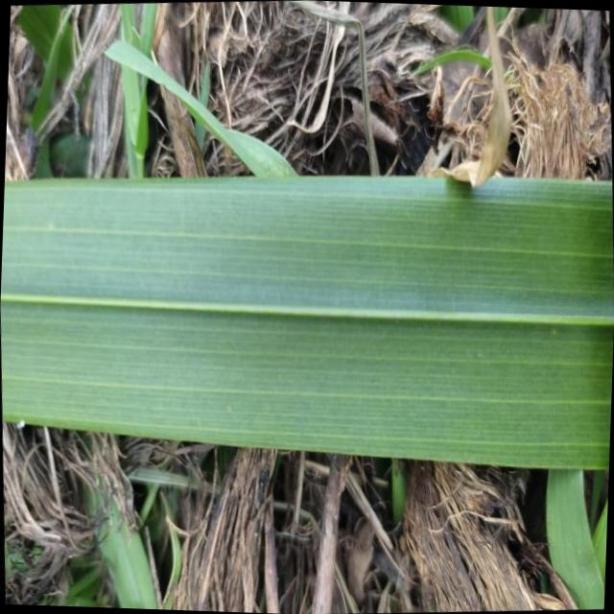Healthy: (0, 173, 614, 470)
